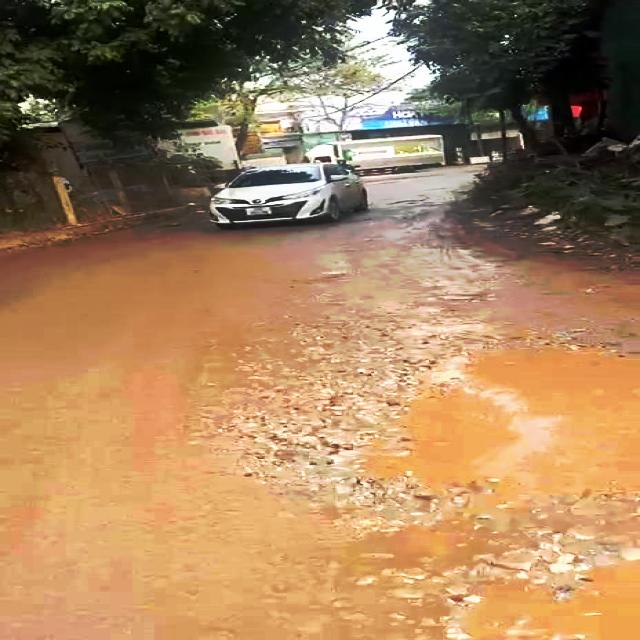pothole: (255, 328, 640, 638)
